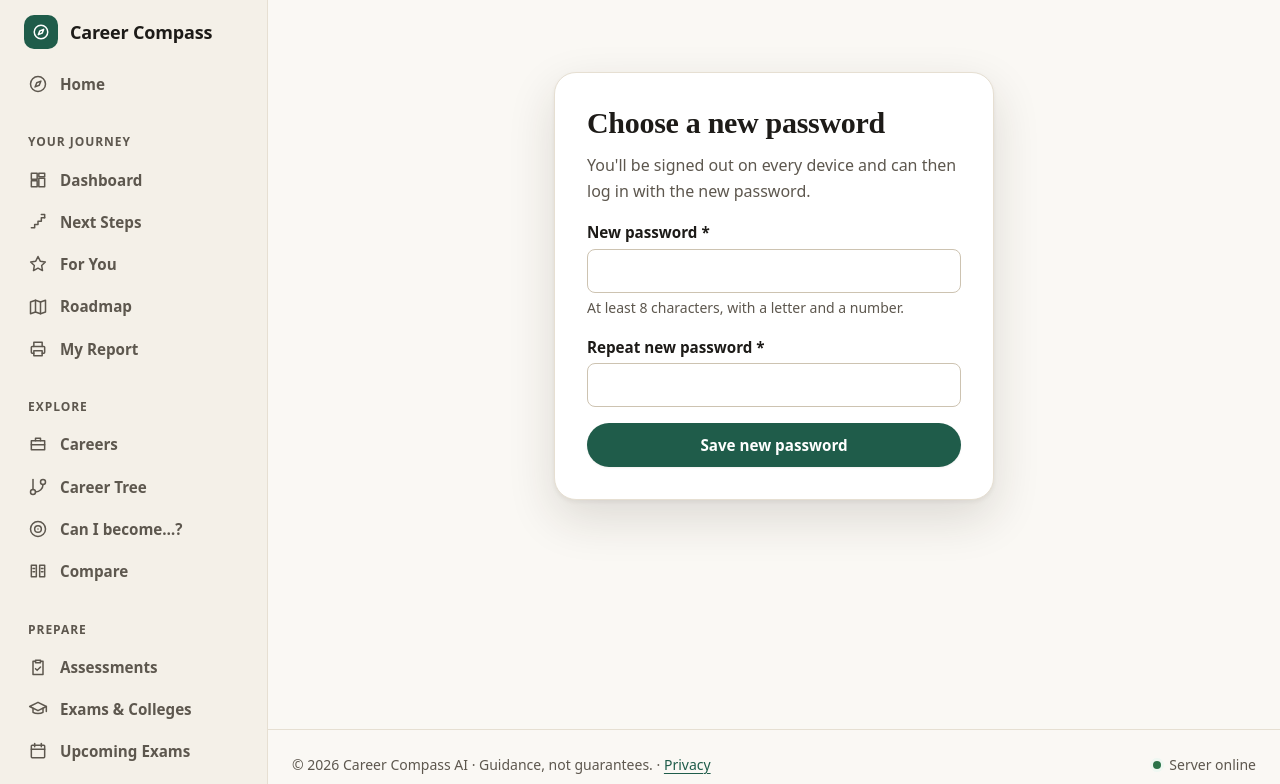
Test: Forgot and reset password › shows the server message for an expired link
In the password field labelled "New password *": point(774, 270) [587,248,961,292], type "newpass99"
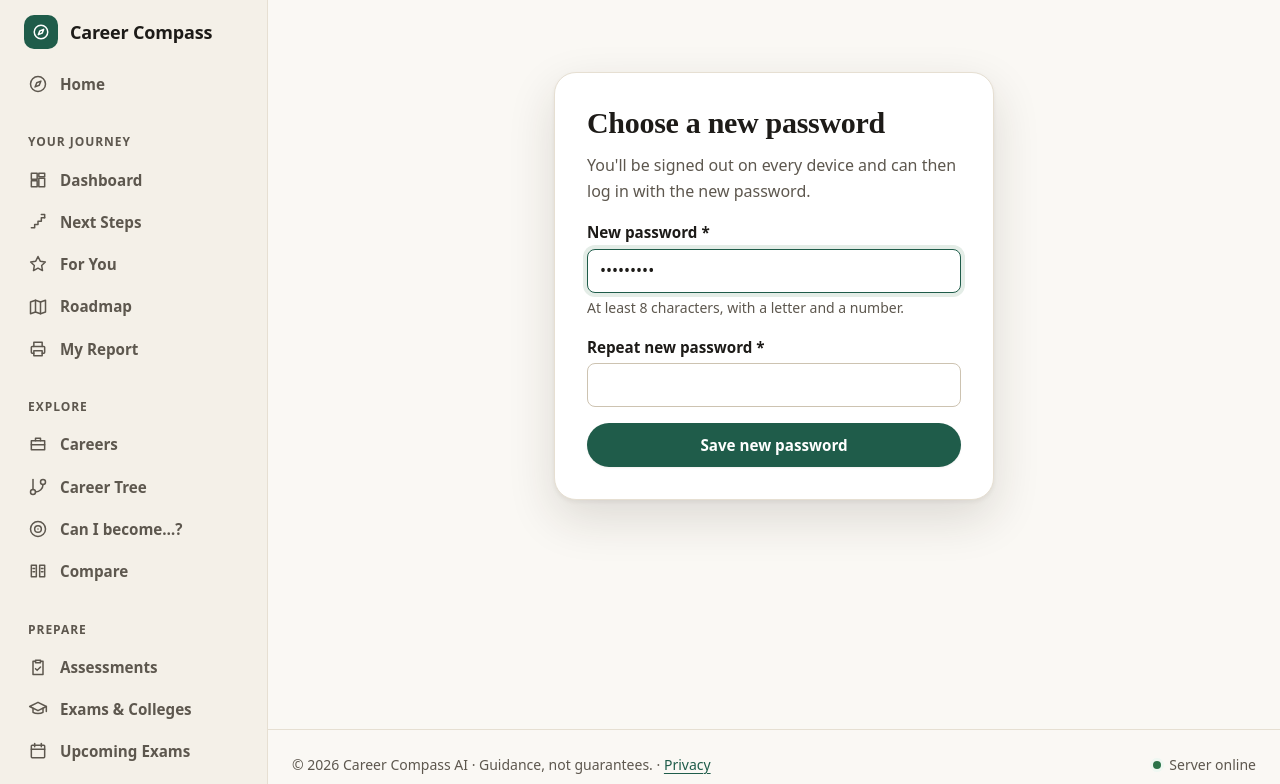
In the password field labelled "Repeat new password *": point(774, 385) [587,363,961,407], type "newpass99"
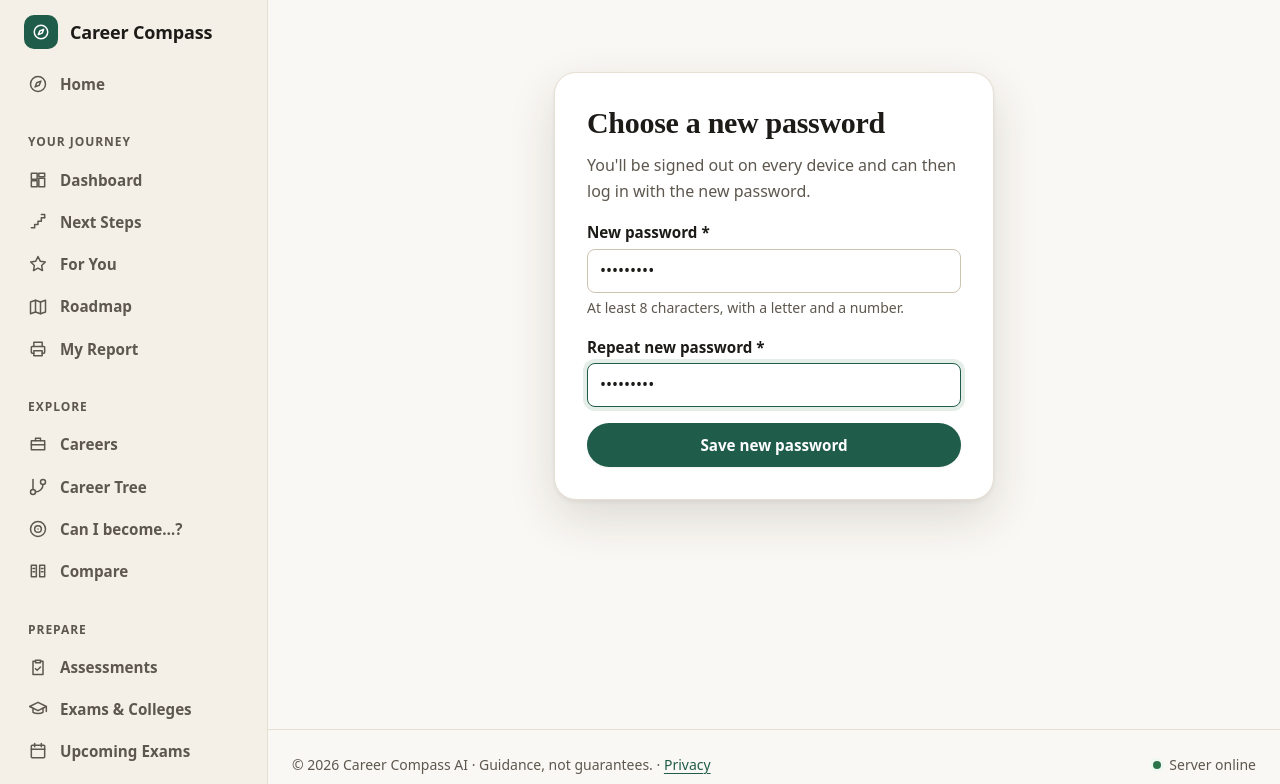
Click the button "Save new password": point(774, 445) [587,423,961,467]
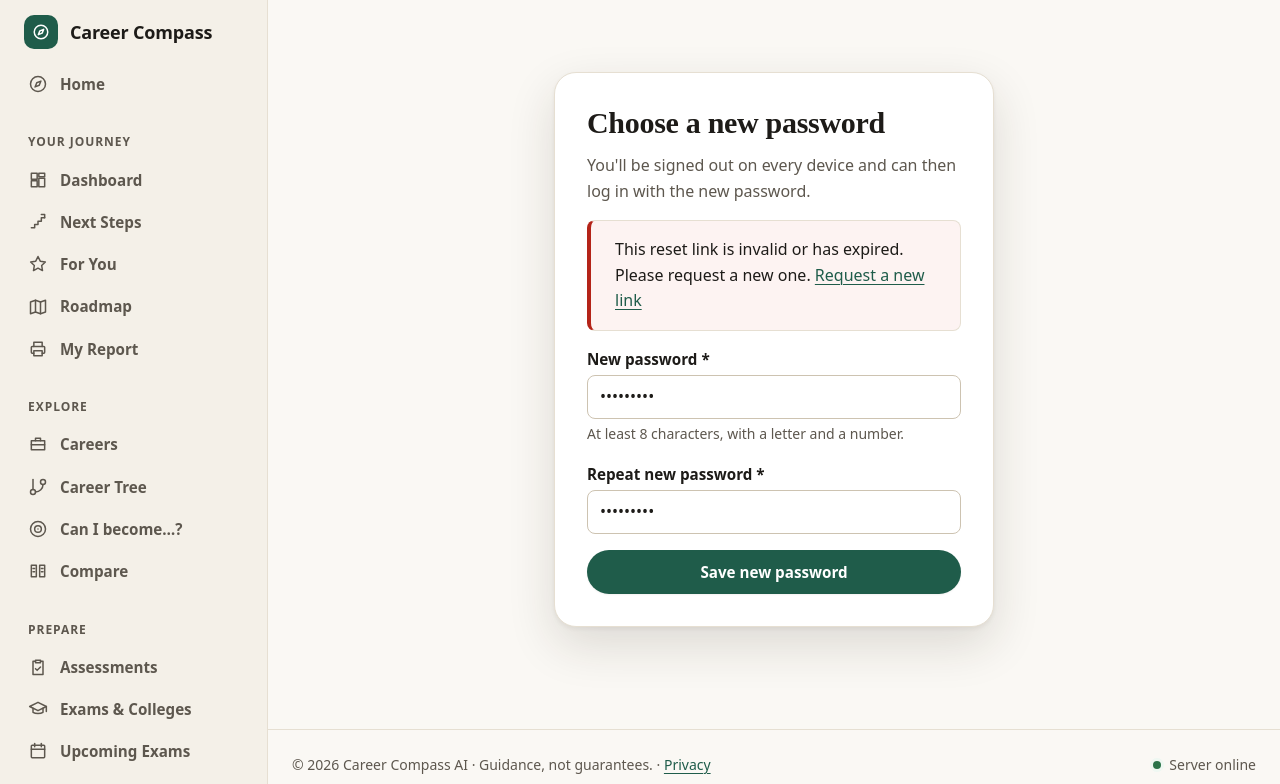
Now the 1st message shows "expired", box [615,238,904,286]
